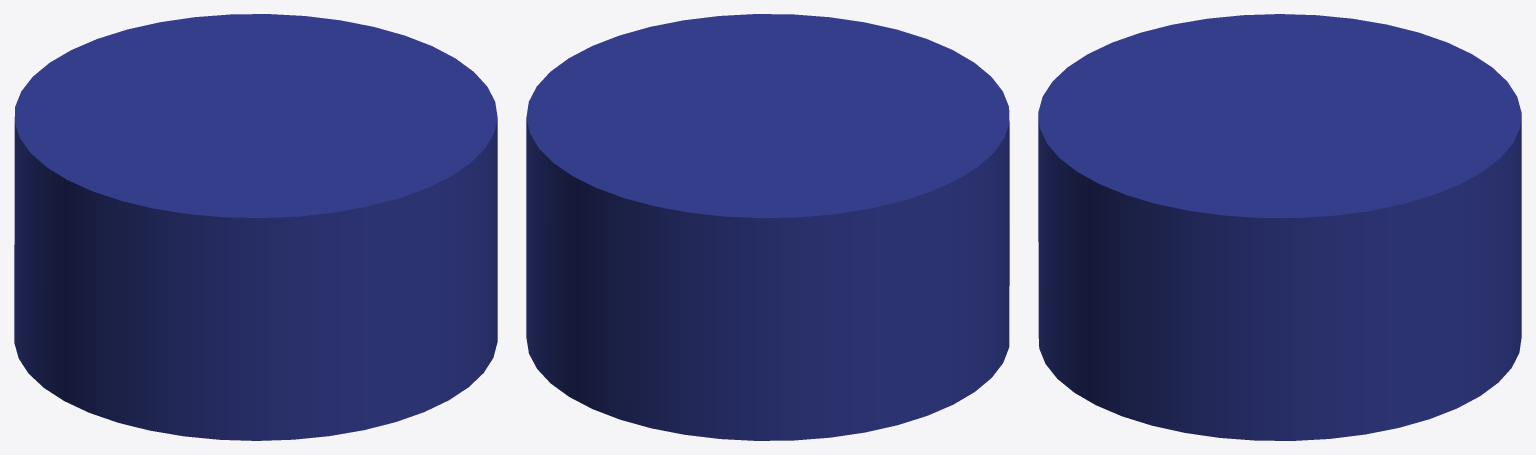
Rendered from right_wheel.obj.
3 views of the same model, side by side, from view 1: azimuth 30°, elevation 25°; view 2: azimuth 150°, elevation 25°; view 3: azimuth 270°, elevation 25° (orthographic).
Visible parts, largest first — view 1: Body1; view 2: Body1; view 3: Body1.
Boxes of the visible parts, <box> form: Body1: <box>14,14,497,440</box>; Body1: <box>526,14,1009,440</box>; Body1: <box>1038,14,1521,440</box>.
Bounding box in the file's own units: 23.58 × 12 × 23.59.
